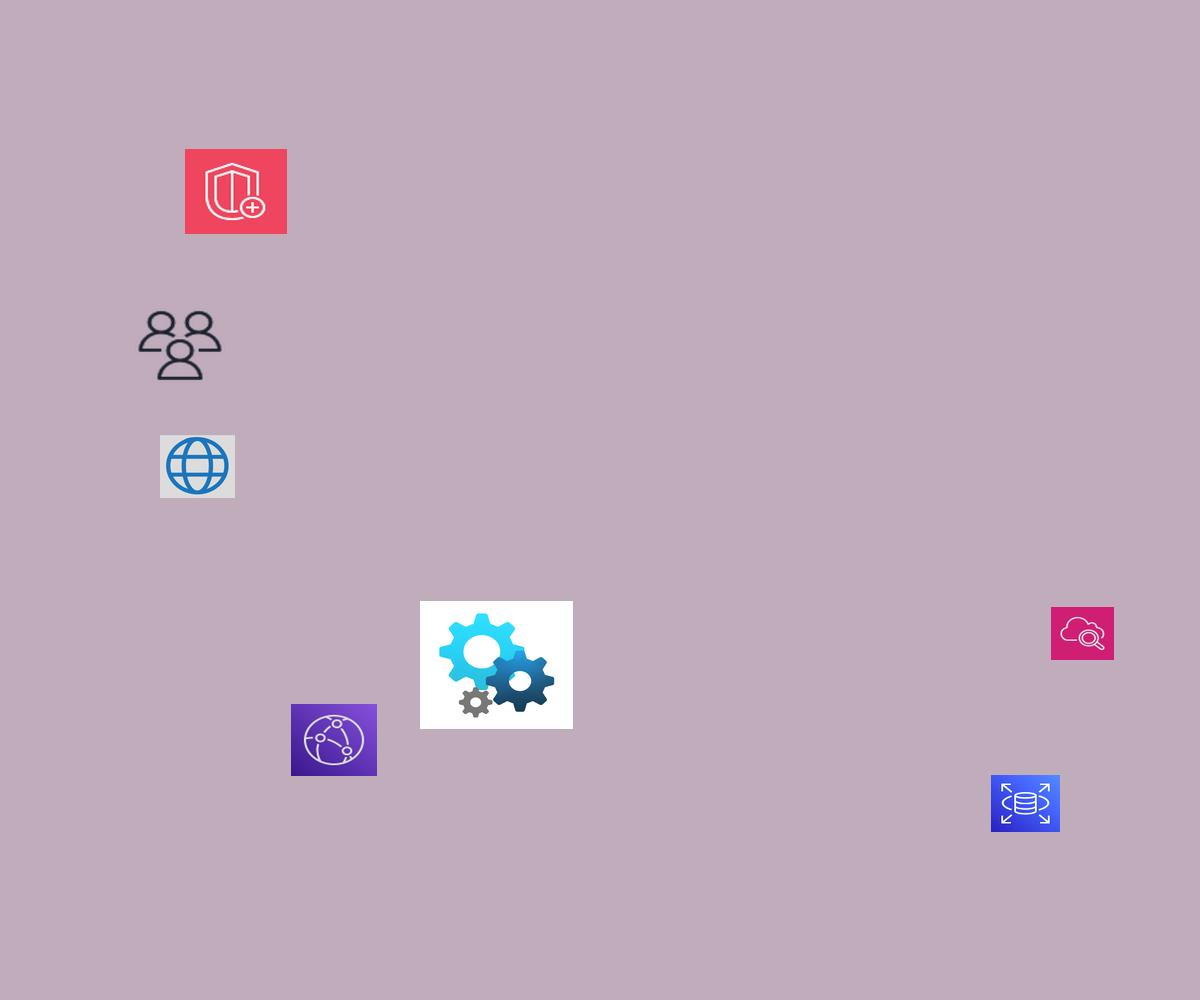AWS-CloudFront: (291, 704, 377, 776)
AWS-CloudWatch: (1051, 607, 1114, 660)
AWS-RDS: (991, 775, 1060, 832)
AWS-Res_Users: (135, 308, 225, 383)
AWS-Shield: (185, 149, 287, 234)
Azure_api: (420, 601, 573, 729)
Azure_http: (160, 435, 235, 498)
